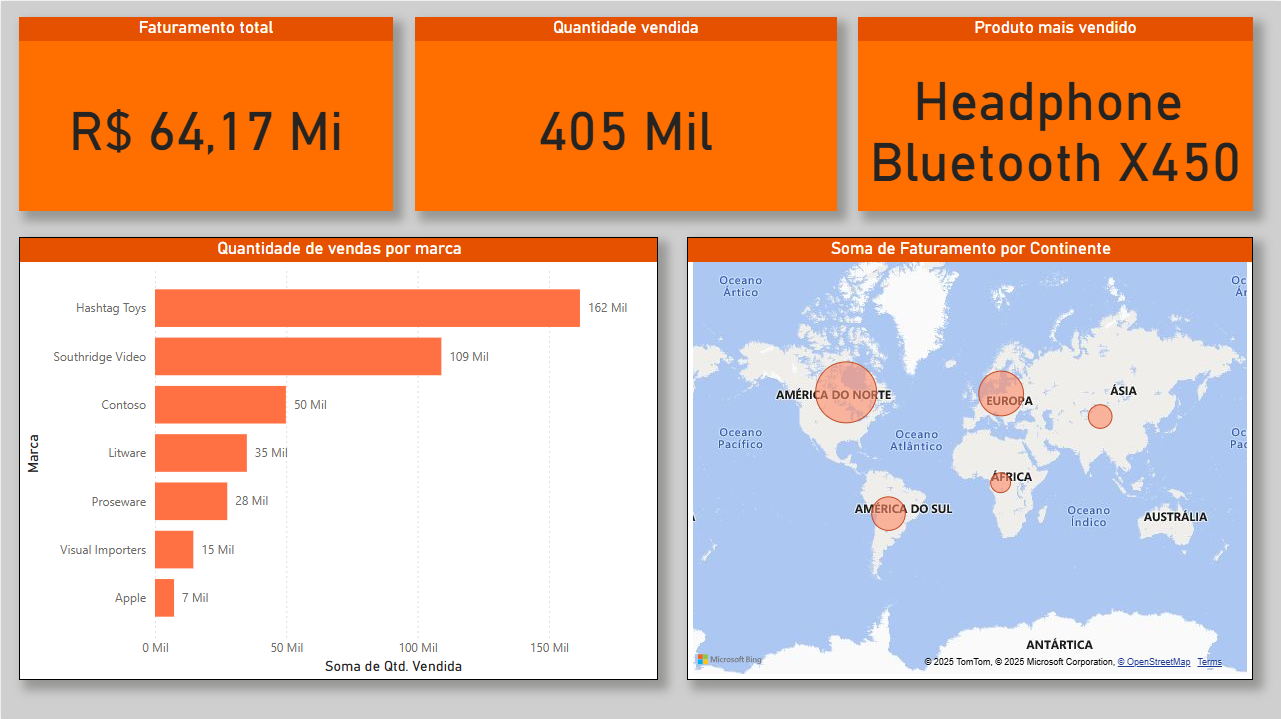

The page's visual inventory and layout, read from the dashboard file:
{"tool":"powerbi","page":{"name":"Página 1","canvas":[1280,720],"ordinal":0},"visuals":[{"type":"card","title":"Faturamento total","fields":{"Values":["Sum(Vendas.Faturamento)"]},"box":[37,36,374.5,193.6],"z":0},{"type":"card","title":"Quantidade vendida","fields":{"Values":["Sum(Vendas.Qtd. Vendida)"]},"box":[428.9,36,422.1,193.6],"z":1000},{"type":"card","title":"Produto mais vendido","fields":{"Values":["Min(Vendas.Produto)"]},"box":[868.6,36,395.9,193.6],"z":2000},{"type":"barChart","title":"Quantidade de vendas por marca","fields":{"Category":["Vendas.Marca"],"Y":["Sum(Vendas.Qtd. Vendida)"]},"box":[37,248,639,442.6],"z":3000},{"type":"map","fields":{"Category":["Vendas.Continente"],"Size":["Sum(Vendas.Faturamento)"]},"box":[698.4,248,566.1,442.6],"z":4000}]}

Visuals, with their boxes in screenshot pixels (x1, y1, x2, y2), scaled from the page's 1280x720 canvas onto the 1281x719 screenshot:
"Faturamento total" card: {"left": 37, "top": 36, "right": 412, "bottom": 229}
"Quantidade vendida" card: {"left": 429, "top": 36, "right": 852, "bottom": 229}
"Produto mais vendido" card: {"left": 869, "top": 36, "right": 1265, "bottom": 229}
"Quantidade de vendas por marca" barChart: {"left": 37, "top": 248, "right": 677, "bottom": 690}
map - Vendas.Continente x Sum(Vendas.Faturamento): {"left": 699, "top": 248, "right": 1265, "bottom": 690}
